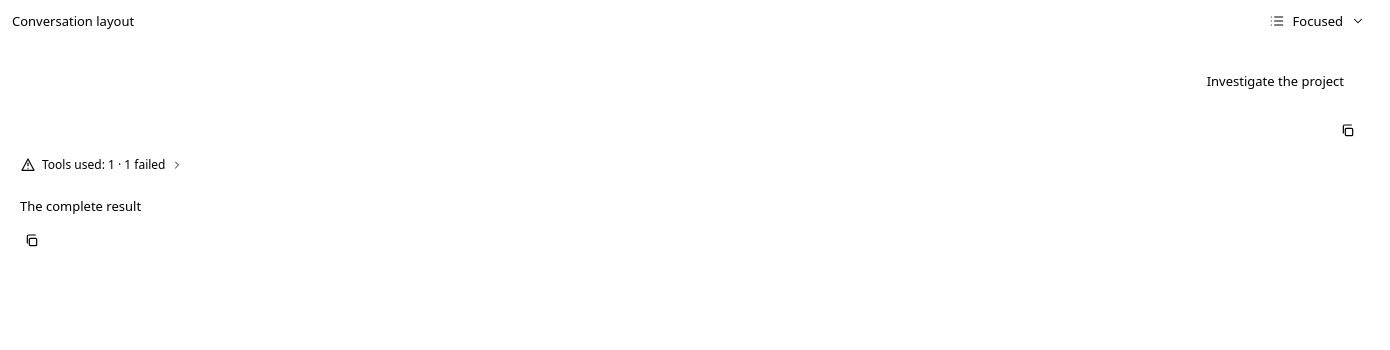
it: focused conversation interactions › reports a failed command in the folded summary instead of hiding the failure
The image size is (1390, 350).
Expected: the text "The complete result" is shown, [20,197,141,215]
Expected: the text "I am examining the implementation" is not shown
Click the button "Tools used: 1 · 1 failed" at point(102, 165), box [20,151,184,179]
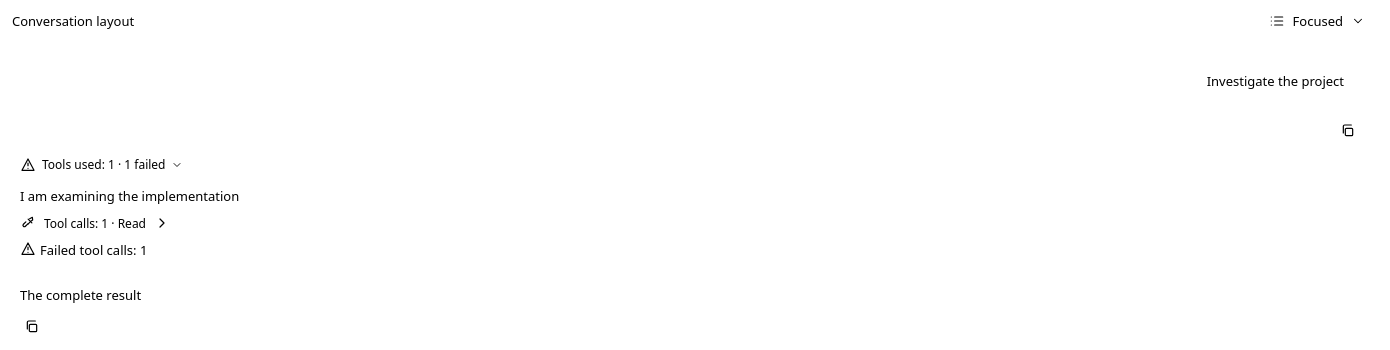
Expected: the text "Failed tool calls: 1" is shown, [20,241,147,259]
Expected: the text "I am examining the implementation" is shown, [20,187,239,205]
